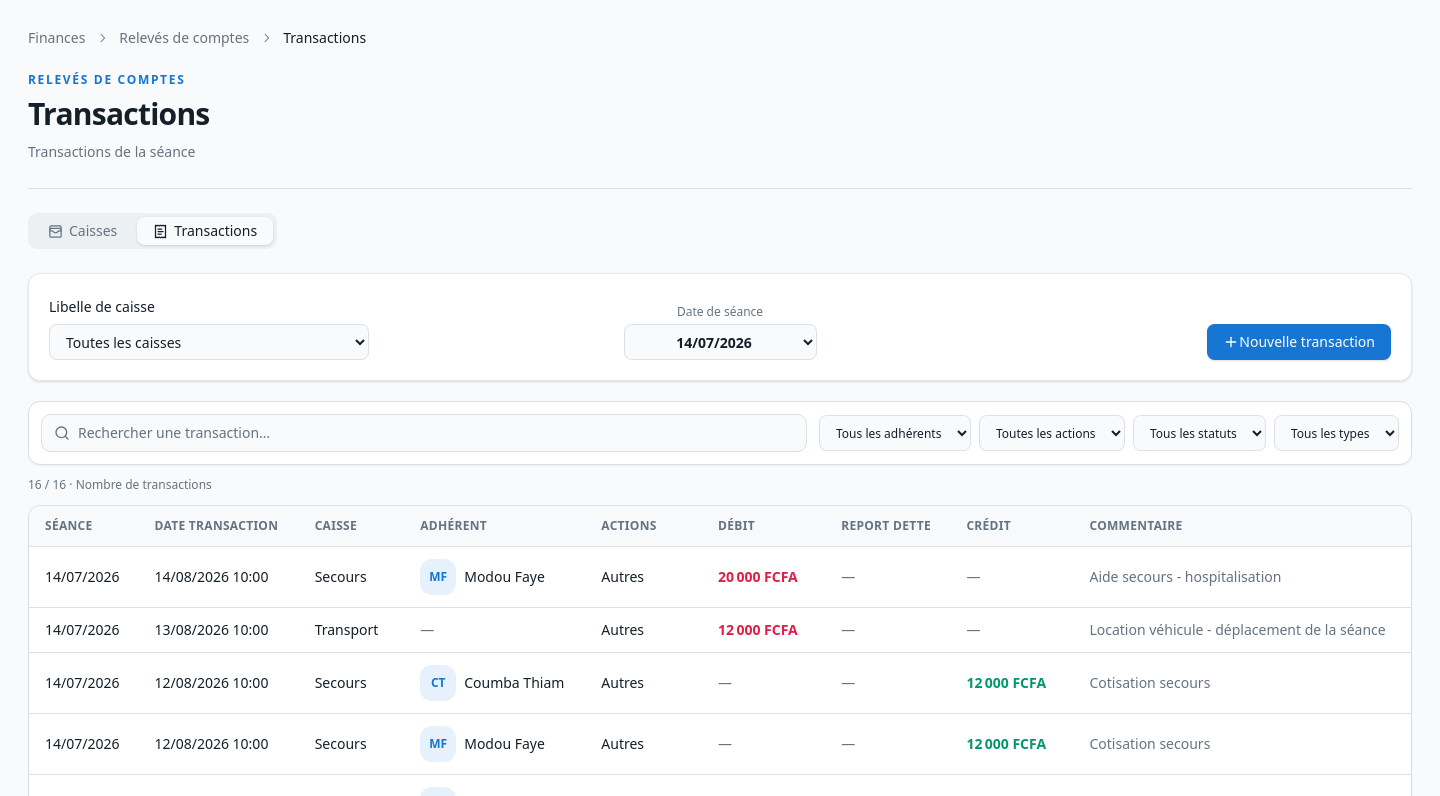
Scenario: Saisie rapide — parcours depuis l’onglet Transactions › « Retour aux transactions » ramène à l’onglet Transactions
This screenshot has width=1440, height=796.
Expected: the dropdown labelled "Date de séance" shows "14/07/2026", [624,324,816,360]
Click the button "Nouvelle transaction": (1299, 342) [1207,324,1391,360]
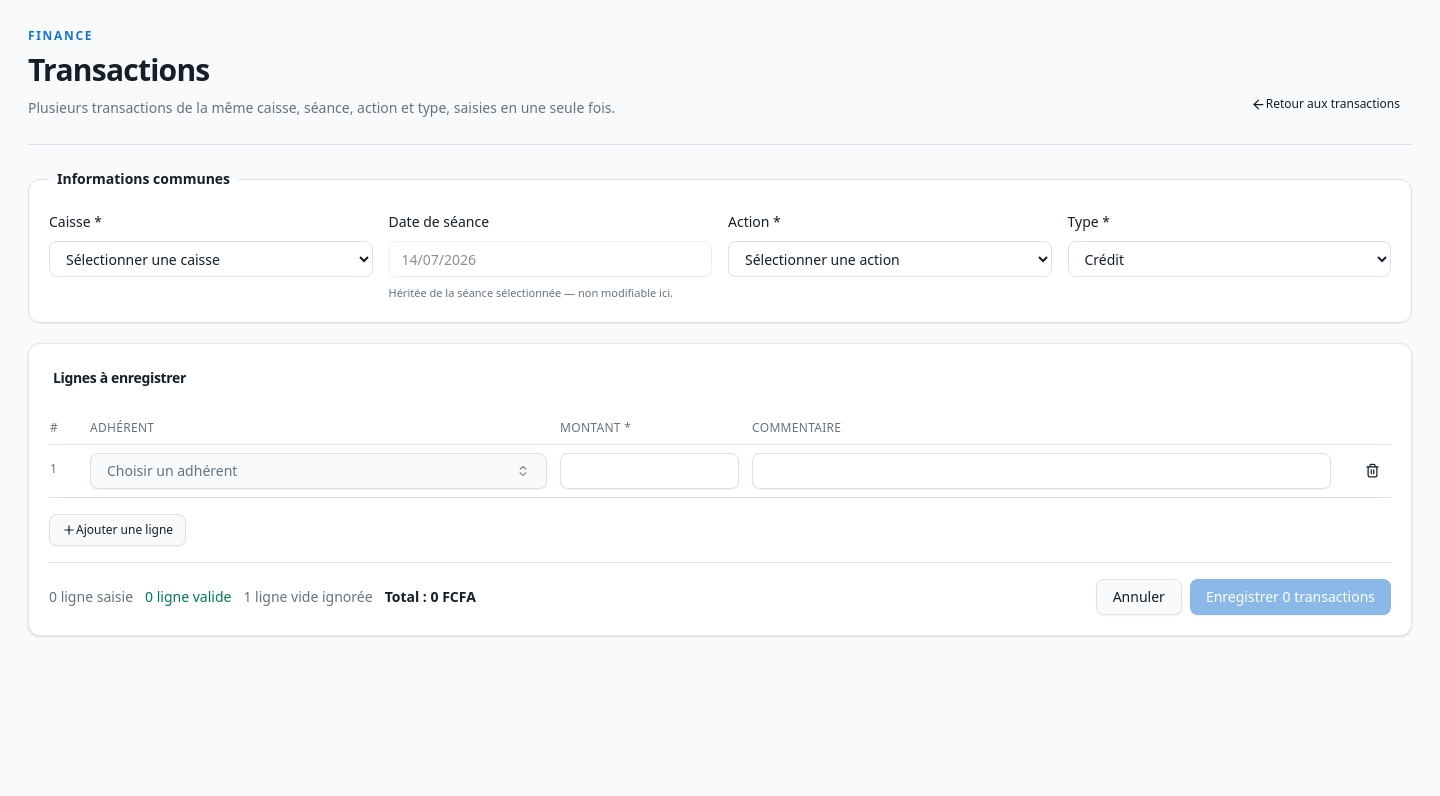
Expected: the heading "Transactions" is shown, [28,49,210,90]
Click the button "Retour aux transactions": (1325, 104) [1239,88,1412,120]
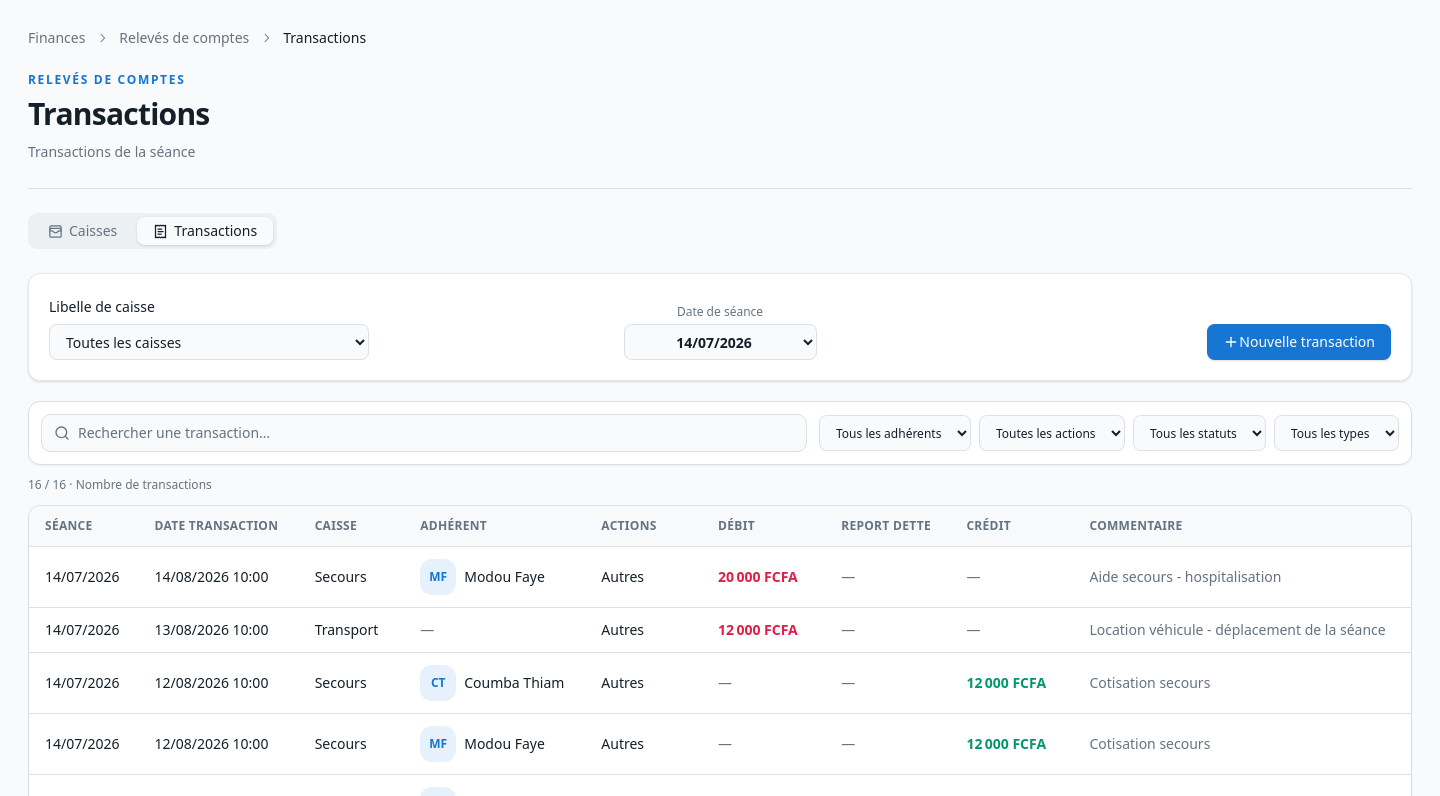
Now the tab "Transactions" is shown, box [137,217,273,245]
